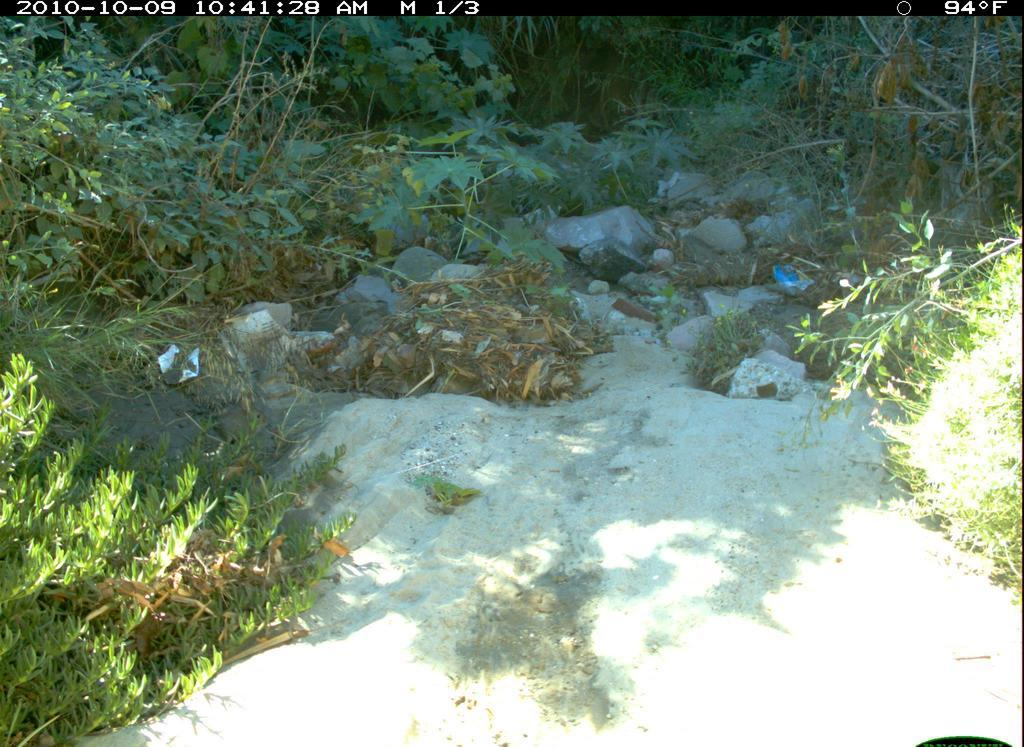rabbit: (209, 404, 276, 452)
